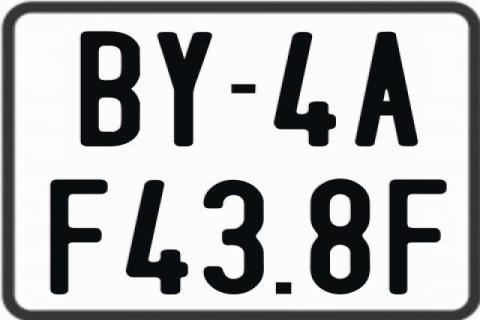0: (204, 179, 268, 299), (274, 32, 339, 150), (125, 178, 189, 296), (308, 176, 368, 293)
A: (356, 32, 419, 150)
B: (80, 31, 140, 147)
F: (50, 178, 114, 296), (386, 178, 448, 296)
Y: (156, 31, 212, 148)
